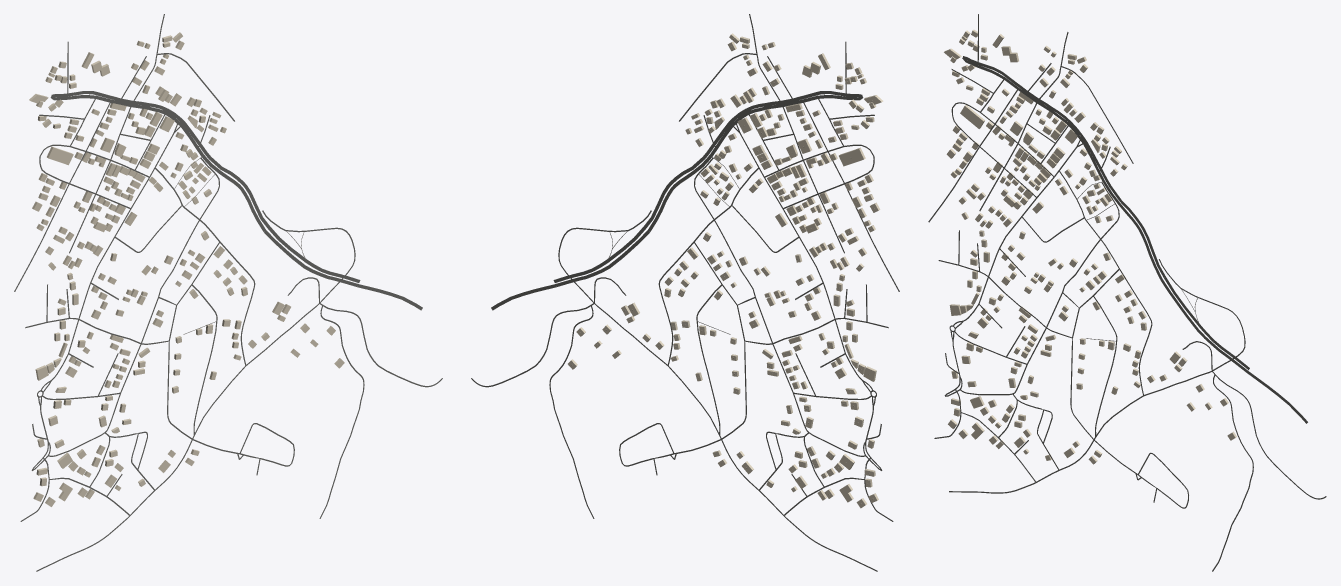
The model's file is karak_3571_3117.glb.
3 views of the same model, side by side, from view 1: azimuth 30°, elevation 25°; view 2: azimuth 150°, elevation 25°; view 3: azimuth 330°, elevation 25° (orthographic). The views are drawn at different scales.
Parts seen in each view (by area): view 1: Road .016, Road .025, Road طريق الملك.004, Road .020, Road طريق الملك.005; view 2: Road .016, Road .025, Road طريق الملك.004, Road .020, Road طريق الملك.005; view 3: Road .016, Road .025, Road طريق الملك.005, Road طريق الملك.004, Road .020.
Boxes of the visible parts, x1=… form: Road .016: x1=36, y1=303, x2=442, y2=571; Road .025: x1=25, y1=317, x2=260, y2=475; Road طريق الملك.004: x1=50, y1=95, x2=198, y2=148; Road .020: x1=48, y1=157, x2=219, y2=456; Road طريق الملك.005: x1=51, y1=91, x2=200, y2=145; Road .016: x1=471, y1=303, x2=877, y2=571; Road .025: x1=653, y1=317, x2=888, y2=475; Road طريق الملك.004: x1=715, y1=95, x2=863, y2=148; Road .020: x1=694, y1=157, x2=865, y2=456; Road طريق الملك.005: x1=713, y1=91, x2=862, y2=145; Road .016: x1=949, y1=371, x2=1326, y2=499; Road .025: x1=938, y1=260, x2=1156, y2=502; Road طريق الملك.005: x1=963, y1=56, x2=1101, y2=169; Road طريق الملك.004: x1=962, y1=57, x2=1099, y2=171; Road .020: x1=960, y1=182, x2=1119, y2=395.
Size of the model in its own units: 1133 by 1372 by 8.7.
